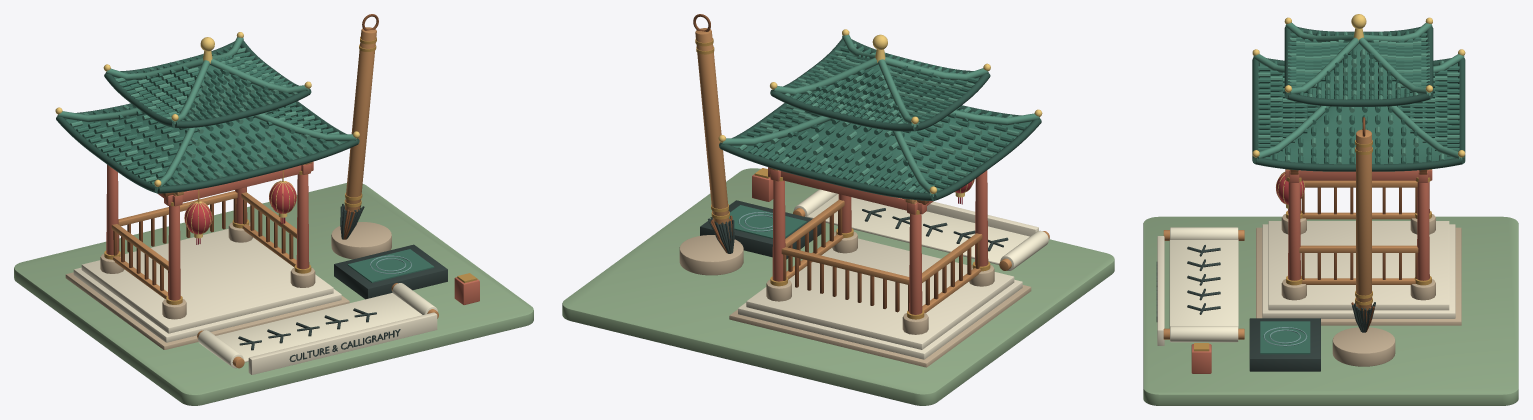
The model's file is culture-pavilion.glb.
The picture shows the model from 3 angles, left to right: view 1: azimuth 30°, elevation 25°; view 2: azimuth 150°, elevation 25°; view 3: azimuth 270°, elevation 25°; orthographic projection. The views are drawn at different scales.
Parts seen in each view (by area): view 1: Sage.002, Ivory.002, Roof Jade.002, Roof Light.002, Paper.002, Maple.002, Terracotta.002, Roof Dark.002, Sand.002, Dark.002, Walnut.002, Velvet Light.002 (+2 smaller); view 2: Sage.002, Roof Jade.002, Ivory.002, Roof Light.002, Maple.002, Sand.002, Terracotta.002, Roof Dark.002, Paper.002, Walnut.002, Dark.002, Brass.002 (+1 smaller); view 3: Sage.002, Roof Jade.002, Ivory.002, Roof Light.002, Paper.002, Maple.002, Sand.002, Roof Dark.002, Terracotta.002, Dark.002, Walnut.002, Gold.002 (+2 smaller).
Part boxes in pixels (x1=…): Sage.002: x1=14, y1=183, x2=533, y2=405; Ivory.002: x1=73, y1=229, x2=437, y2=374; Roof Jade.002: x1=66, y1=47, x2=434, y2=282; Roof Light.002: x1=58, y1=37, x2=356, y2=189; Paper.002: x1=198, y1=283, x2=437, y2=368; Maple.002: x1=111, y1=27, x2=438, y2=368; Terracotta.002: x1=106, y1=161, x2=479, y2=304; Roof Dark.002: x1=56, y1=40, x2=359, y2=193; Sand.002: x1=65, y1=222, x2=391, y2=349; Dark.002: x1=238, y1=204, x2=447, y2=361; Walnut.002: x1=113, y1=14, x2=378, y2=295; Velvet Light.002: x1=185, y1=181, x2=296, y2=234; Sage.002: x1=562, y1=168, x2=1114, y2=405; Roof Jade.002: x1=715, y1=45, x2=1031, y2=238; Ivory.002: x1=738, y1=201, x2=1038, y2=359; Roof Light.002: x1=722, y1=35, x2=1039, y2=196; Maple.002: x1=695, y1=28, x2=1049, y2=313; Sand.002: x1=679, y1=231, x2=1031, y2=367; Terracotta.002: x1=752, y1=167, x2=988, y2=314; Roof Dark.002: x1=719, y1=38, x2=1041, y2=200; Paper.002: x1=793, y1=189, x2=1048, y2=270; Walnut.002: x1=693, y1=14, x2=979, y2=312; Dark.002: x1=700, y1=200, x2=1008, y2=259; Brass.002: x1=695, y1=38, x2=990, y2=319; Sage.002: x1=1143, y1=216, x2=1518, y2=405; Roof Jade.002: x1=1258, y1=29, x2=1459, y2=354; Ivory.002: x1=1157, y1=221, x2=1455, y2=345; Roof Light.002: x1=1253, y1=22, x2=1464, y2=164; Paper.002: x1=1169, y1=227, x2=1238, y2=342; Maple.002: x1=1163, y1=129, x2=1432, y2=339; Sand.002: x1=1256, y1=214, x2=1461, y2=366; Roof Dark.002: x1=1252, y1=26, x2=1465, y2=171; Terracotta.002: x1=1191, y1=169, x2=1432, y2=373; Dark.002: x1=1156, y1=245, x2=1375, y2=371; Walnut.002: x1=1290, y1=117, x2=1427, y2=331; Gold.002: x1=1252, y1=14, x2=1465, y2=208.
Size of the model in its own units: 8.3 by 6 by 7.4.
